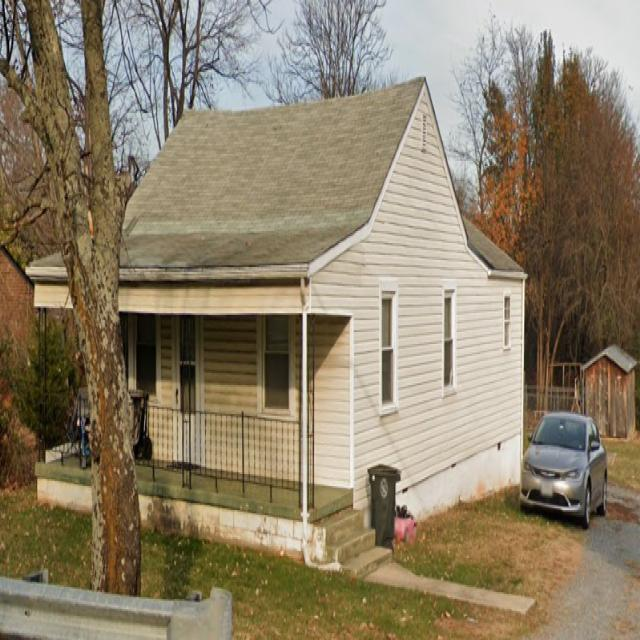House: (25, 77, 527, 567), (0, 246, 75, 365)
